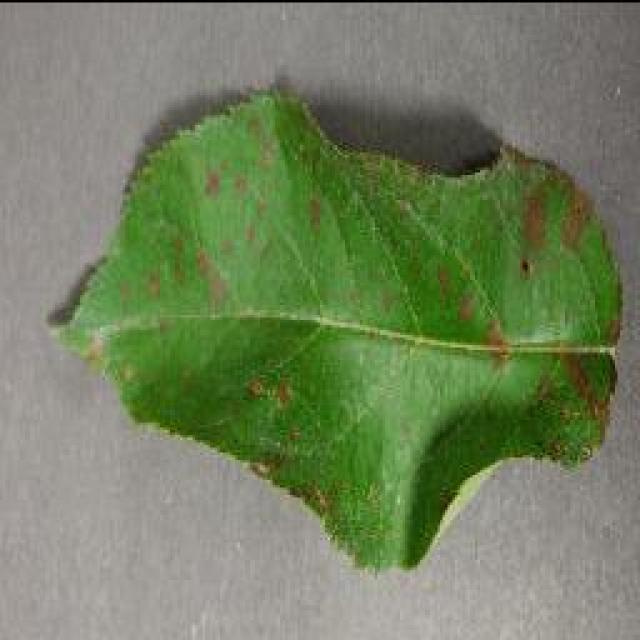apple healthy: (45, 80, 625, 575)
